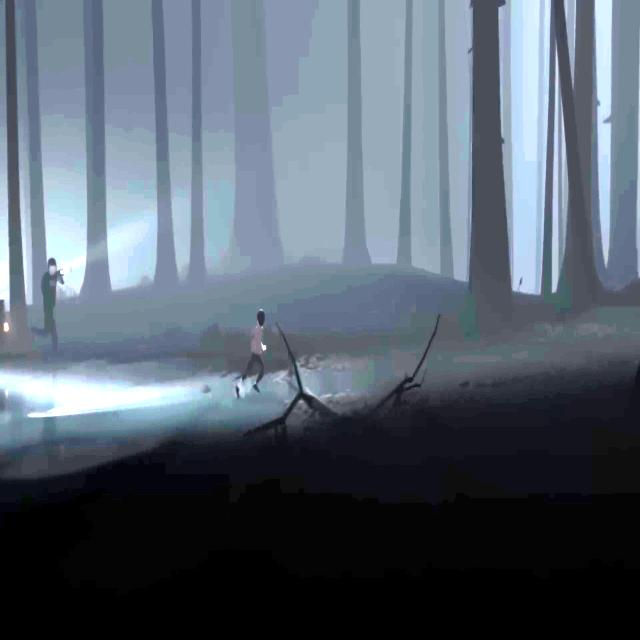boy: (236, 309, 266, 399)
human: (31, 258, 65, 354)
